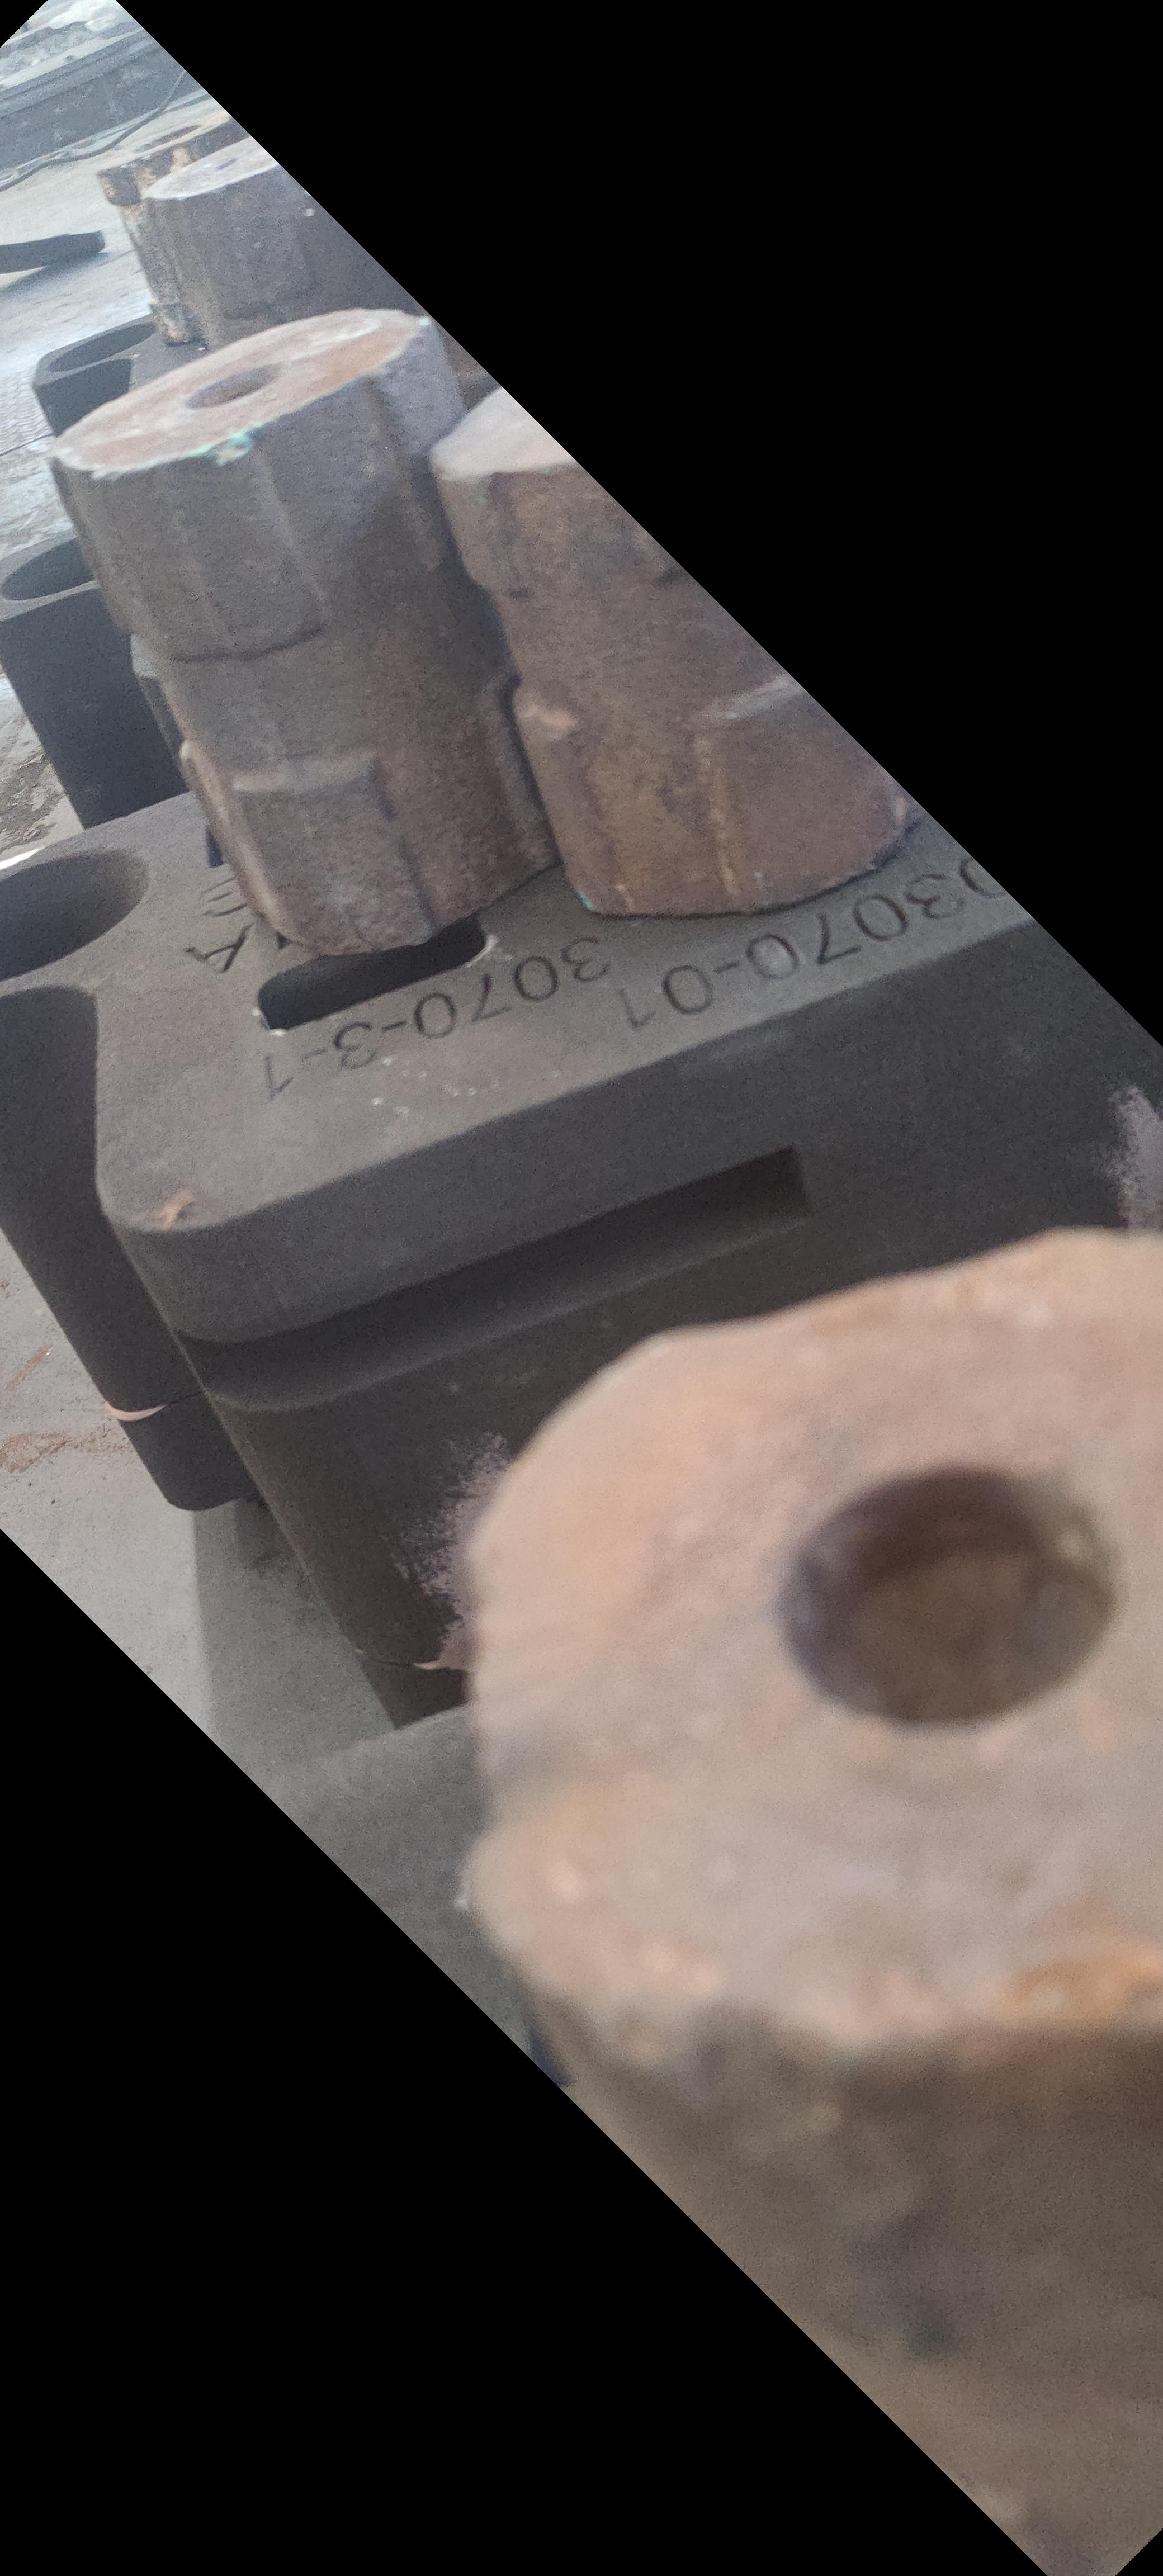pouring hole: (2, 846, 153, 982), (0, 531, 126, 610), (30, 314, 163, 376)
